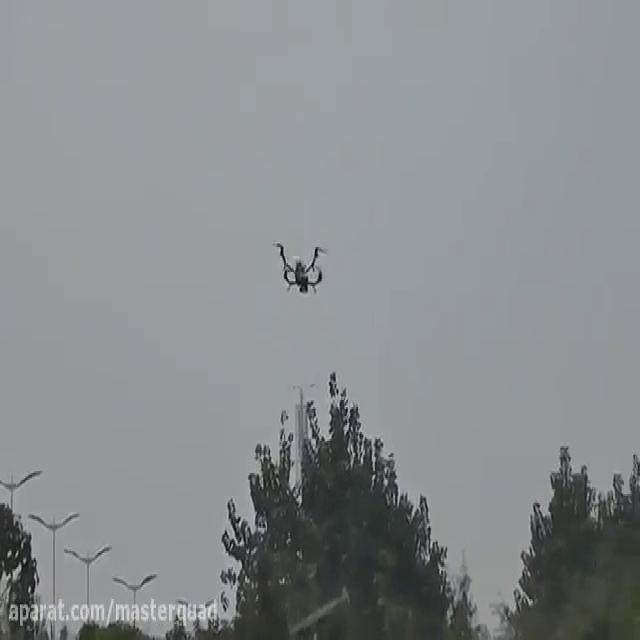drone: (270, 237, 328, 295)
